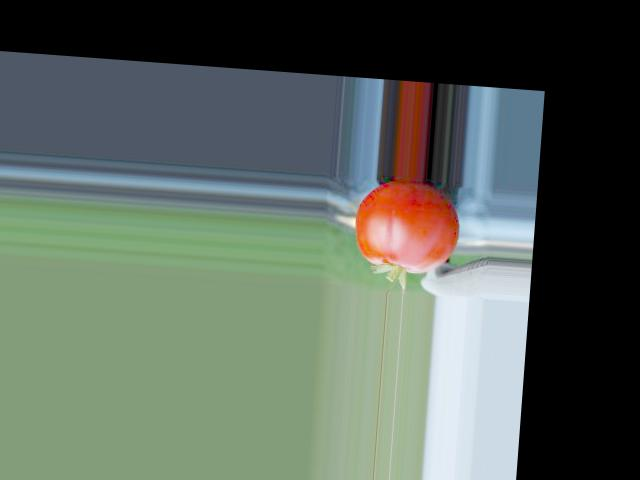tomato: (351, 178, 462, 275)
